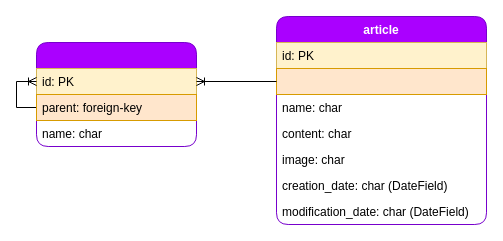
Some shapes in this 503 by 241 pixel diagram are drawn without their labels. The shapes that lost their labels are listed below. From the top down, each one's box as (x1, y1, x2, y2) in pixels, then its label:
(36, 42, 196, 146): category
(276, 68, 486, 94): category_id: foreign-key
